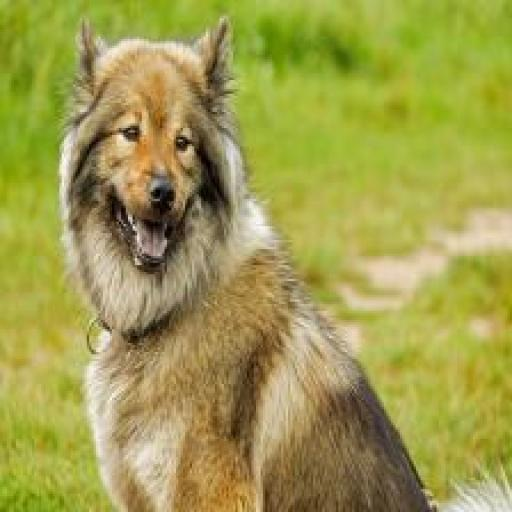wolf: (57, 7, 512, 512)
